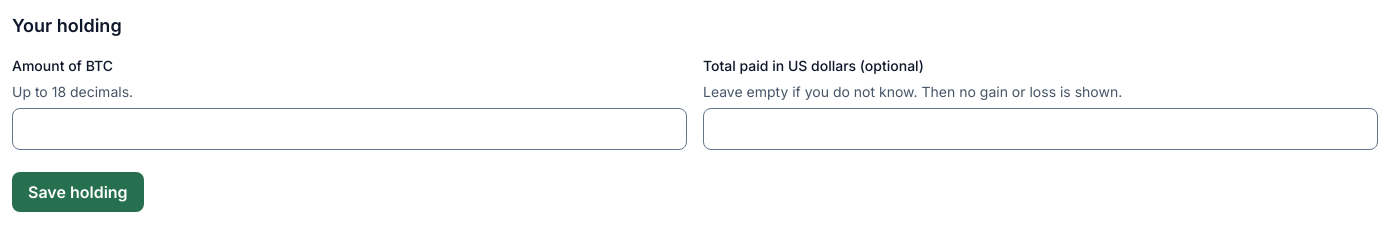
it: HoldingEditor › shows the server's field problems next to the fields and moves focus there
This screenshot has width=1390, height=251.
Type "0" into the field labelled "Amount of BTC" at coordinates (350, 129), box [12, 108, 687, 150]
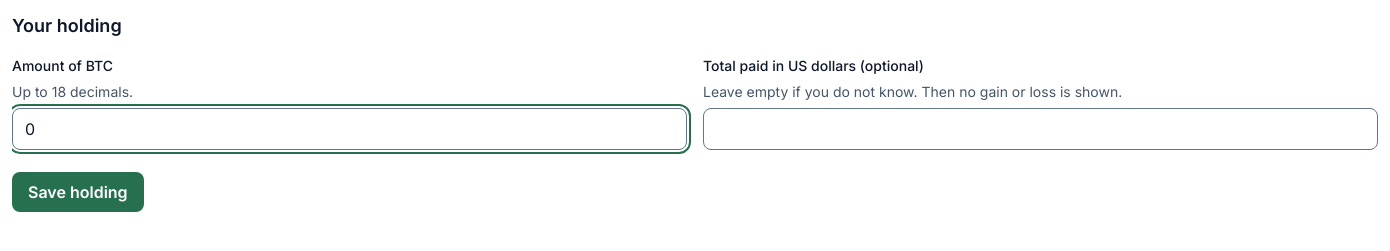
Click the button "Save holding" at coordinates (78, 192), box [12, 172, 144, 212]
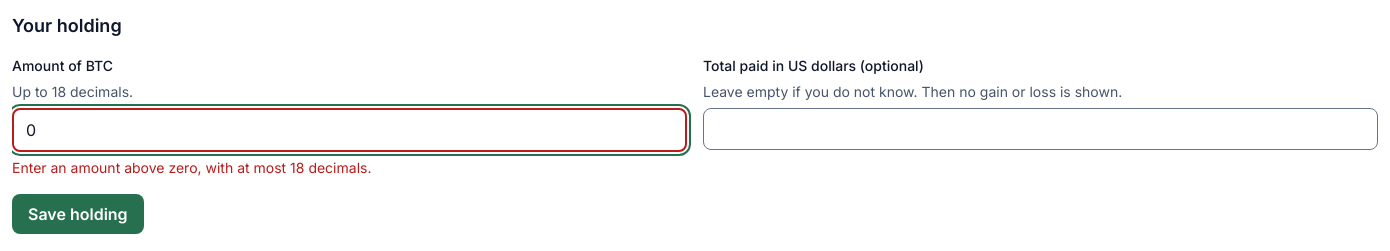
Check: the text "Enter an amount above zero, with at most 18 decimals." is shown, box [11, 158, 372, 176]
